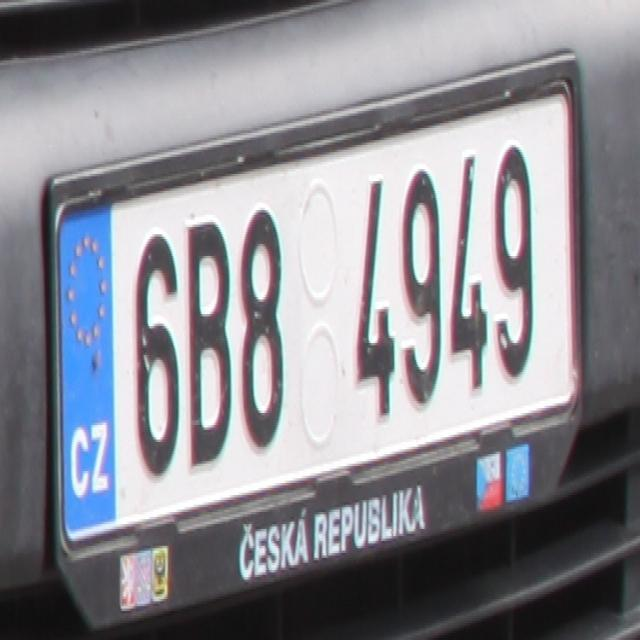4: (444, 147, 490, 396), (352, 174, 396, 425)
6: (134, 222, 180, 478)
8: (236, 205, 284, 454)
9: (399, 164, 443, 408), (493, 143, 535, 374)
B: (184, 212, 234, 463)
